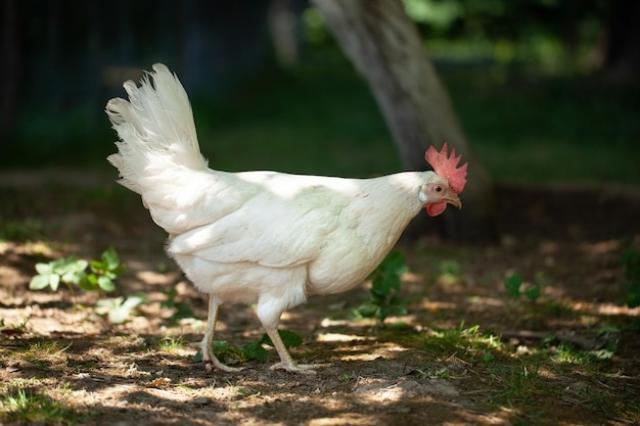Chicken: (106, 62, 469, 372)
